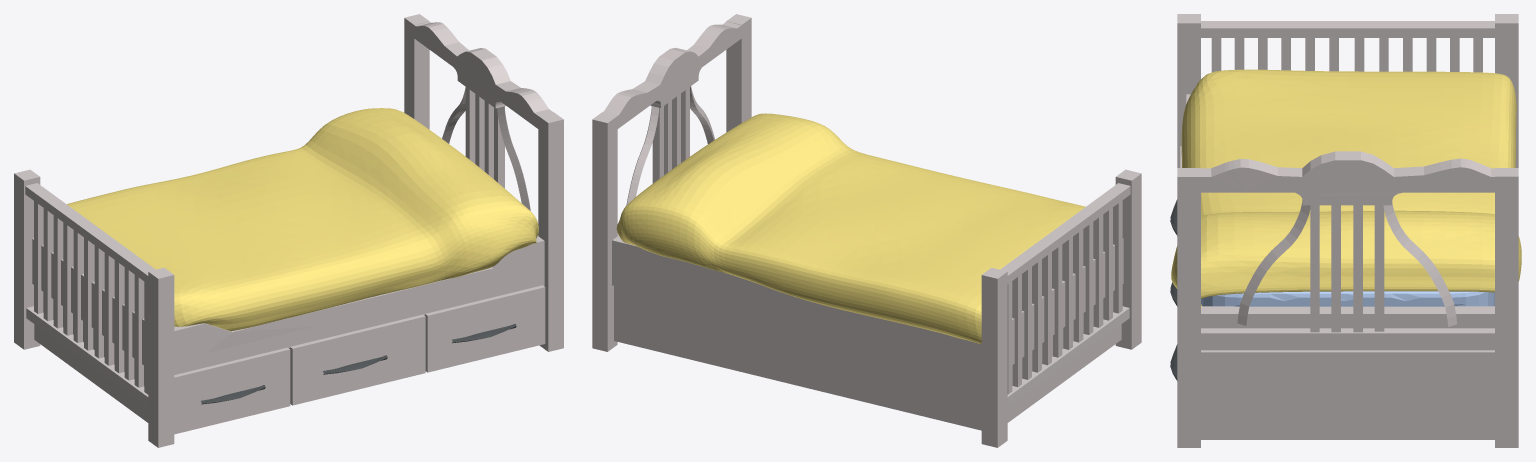
Rendered from captainsBed.obj.
The picture shows the model from 3 angles, left to right: view 1: azimuth 30°, elevation 25°; view 2: azimuth 150°, elevation 25°; view 3: azimuth 270°, elevation 25°; orthographic projection. The views are drawn at different scales.
Visible parts, largest first — view 1: PolyMesh_3, PolyMesh_1, Cube_3_2, Cube_3, Cube_3_1, Cube_1_2, PolyMesh_1_4, Cube_1, Cube_1_1, Cube_1_5, Cube_1_3, Cube_5 (+18 smaller); view 2: PolyMesh_3, Cube_4, PolyMesh_1, Cube_1_3, PolyMesh_1_4, Cube_1_1, Cube_1, Cube_1_5, Cube_1_2, Cube_5, Cube_1_4, Cube_2_8 (+16 smaller); view 3: PolyMesh_3, Cube_5_1, PolyMesh_1_4, Cube_1_3, Cube_1_2, PolyMesh_2, PolyMesh_1, Cube_1_5, mattress, Cube_1, Cube_1_1, Tube_1-mirror (+9 smaller).
Boxes of the visible parts, x1=… form: PolyMesh_3: x1=67, y1=108, x2=538, y2=331; PolyMesh_1: x1=32, y1=235, x2=544, y2=374; Cube_3_2: x1=289, y1=314, x2=425, y2=405; Cube_3: x1=424, y1=285, x2=545, y2=372; Cube_3_1: x1=174, y1=347, x2=290, y2=434; Cube_1_2: x1=538, y1=112, x2=563, y2=351; PolyMesh_1_4: x1=414, y1=21, x2=552, y2=128; Cube_1: x1=148, y1=267, x2=174, y2=447; Cube_1_1: x1=14, y1=169, x2=40, y2=349; Cube_1_5: x1=25, y1=183, x2=155, y2=283; Cube_1_3: x1=404, y1=14, x2=429, y2=129; Cube_5: x1=34, y1=292, x2=148, y2=422; PolyMesh_3: x1=616, y1=113, x2=1085, y2=344; Cube_4: x1=614, y1=286, x2=981, y2=430; PolyMesh_1: x1=612, y1=233, x2=1123, y2=375; Cube_1_3: x1=592, y1=112, x2=617, y2=351; PolyMesh_1_4: x1=603, y1=21, x2=741, y2=128; Cube_1_1: x1=981, y1=267, x2=1007, y2=447; Cube_1: x1=1115, y1=169, x2=1141, y2=349; Cube_1_5: x1=1000, y1=183, x2=1130, y2=283; Cube_1_2: x1=726, y1=14, x2=751, y2=132; Cube_5: x1=1007, y1=291, x2=1121, y2=422; Cube_1_4: x1=1007, y1=306, x2=1129, y2=406; Cube_2_8: x1=1073, y1=229, x2=1083, y2=342; PolyMesh_3: x1=1171, y1=69, x2=1521, y2=307; Cube_5_1: x1=1201, y1=350, x2=1494, y2=439; PolyMesh_1_4: x1=1201, y1=151, x2=1494, y2=205; Cube_1_3: x1=1495, y1=168, x2=1518, y2=447; Cube_1_2: x1=1177, y1=168, x2=1200, y2=447; PolyMesh_2: x1=1201, y1=328, x2=1494, y2=350; PolyMesh_1: x1=1186, y1=94, x2=1494, y2=328; Cube_1_5: x1=1201, y1=21, x2=1494, y2=37; mattress: x1=1201, y1=291, x2=1494, y2=306; Cube_1: x1=1177, y1=14, x2=1200, y2=167; Cube_1_1: x1=1495, y1=14, x2=1518, y2=167; Tube_1-mirror: x1=1383, y1=203, x2=1456, y2=326.
Size of the model in its own units: 4.62 by 2.65 by 2.93.
